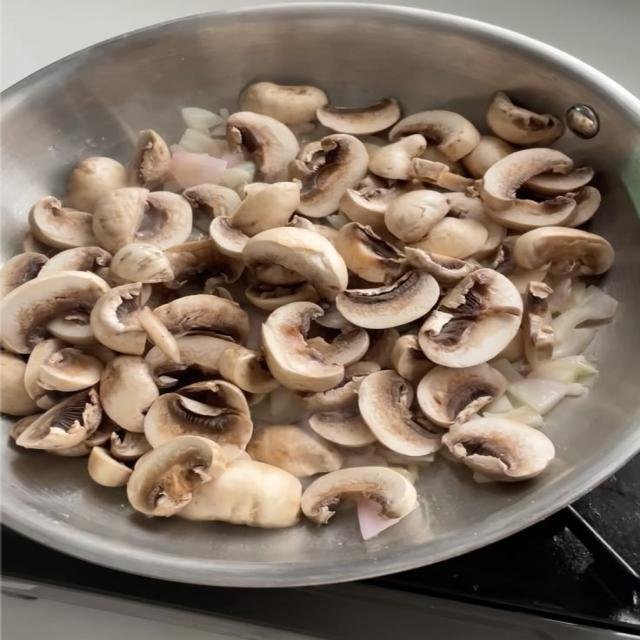champignon mushrooms: (419, 269, 522, 367), (0, 271, 109, 353), (145, 381, 253, 458), (180, 460, 302, 528), (127, 436, 226, 516), (480, 148, 575, 230), (243, 227, 347, 300), (262, 302, 344, 391), (359, 370, 441, 456), (443, 418, 554, 481), (87, 187, 192, 253), (301, 467, 417, 524), (336, 271, 439, 329), (299, 134, 369, 217), (417, 364, 507, 426), (16, 389, 102, 449), (227, 112, 299, 183), (247, 425, 342, 476), (514, 227, 613, 275), (146, 335, 236, 387), (154, 295, 249, 343), (100, 356, 159, 432), (390, 111, 479, 161), (90, 283, 150, 355), (487, 91, 564, 145), (335, 223, 404, 282), (445, 193, 506, 259), (299, 361, 379, 411), (229, 182, 301, 236), (165, 239, 244, 288), (239, 82, 327, 124), (29, 197, 99, 249), (65, 157, 126, 213), (385, 190, 449, 243), (490, 236, 546, 295), (340, 187, 404, 238), (414, 216, 488, 258), (316, 98, 400, 135), (24, 339, 65, 410), (37, 348, 103, 392), (218, 347, 279, 394), (405, 247, 478, 286), (309, 407, 377, 447), (368, 134, 426, 179), (523, 282, 553, 367), (111, 243, 173, 283), (129, 130, 171, 189), (0, 352, 39, 415), (307, 327, 369, 366), (408, 155, 474, 191), (138, 307, 179, 362), (462, 136, 515, 178), (0, 252, 47, 299), (246, 282, 319, 311), (40, 247, 112, 276), (391, 335, 434, 381), (182, 184, 240, 218), (525, 168, 594, 196), (88, 447, 132, 487), (209, 216, 249, 259), (47, 311, 95, 346), (565, 187, 601, 227), (364, 328, 399, 369), (421, 145, 466, 176), (110, 430, 152, 461), (252, 264, 303, 285), (315, 301, 349, 329), (9, 414, 41, 442), (22, 231, 55, 257), (313, 224, 339, 246)
